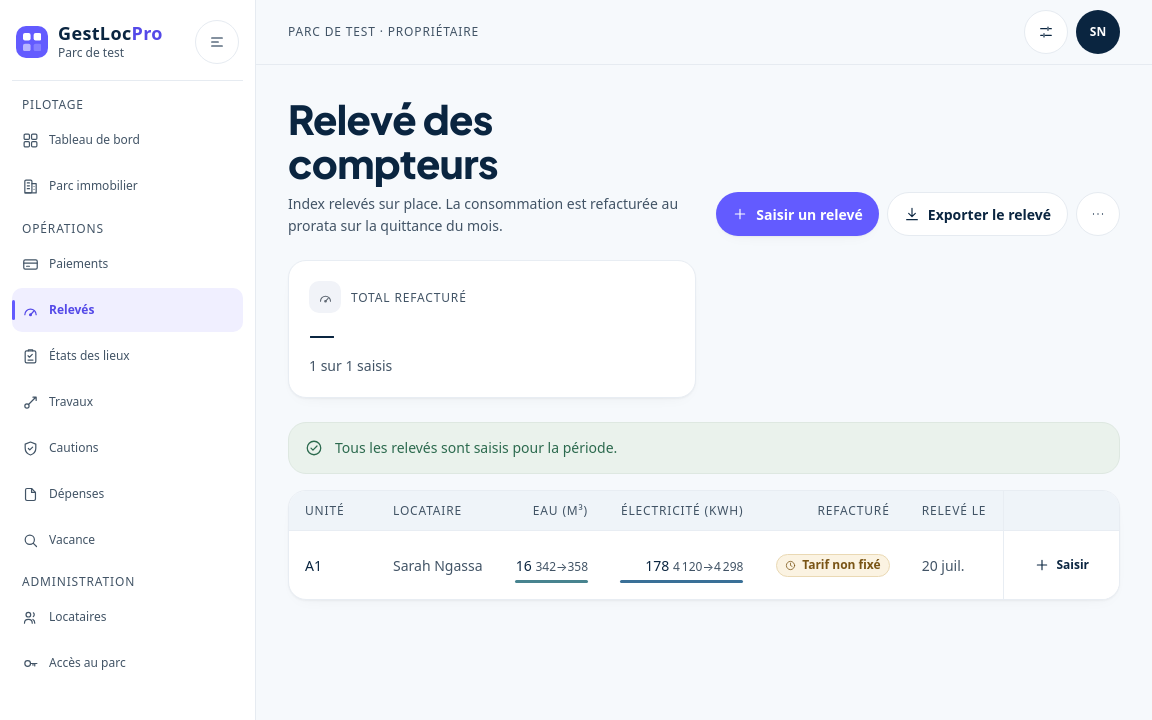
poser un prix › envoie le prix saisi, daté
Click the button named "Autres actions".
click(1098, 214)  # box [1076,192,1120,236]
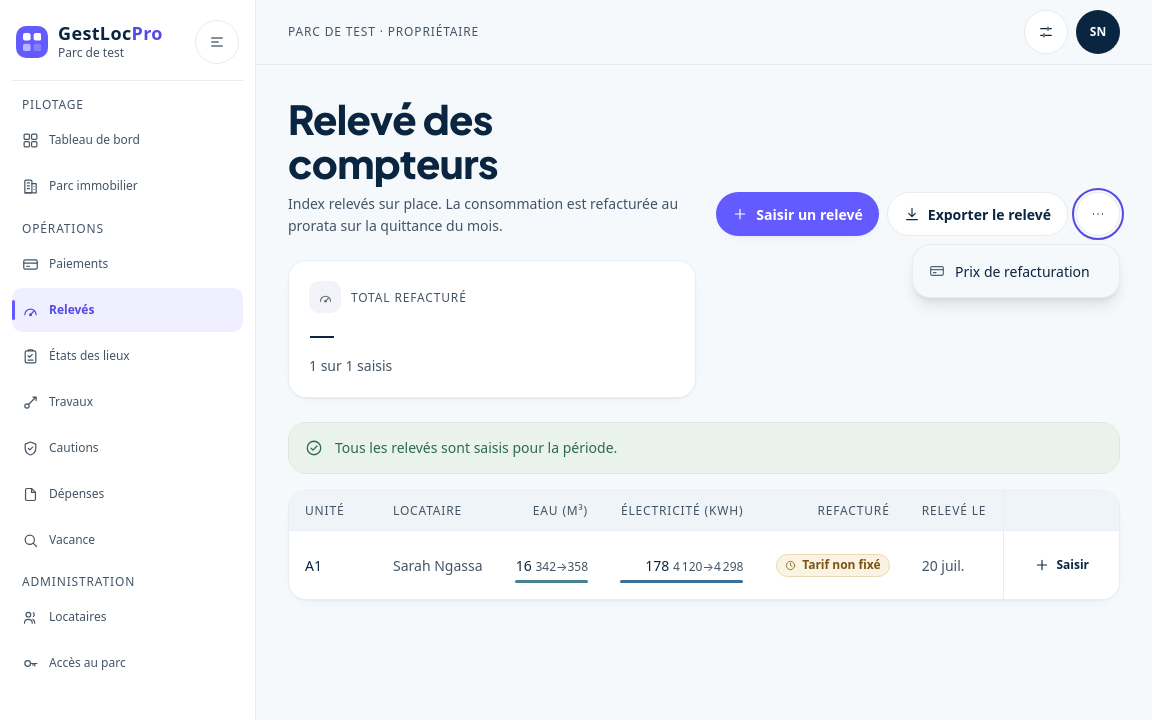
Click the menu item "Prix de refacturation".
click(1016, 271)  # box [917,249,1115,293]
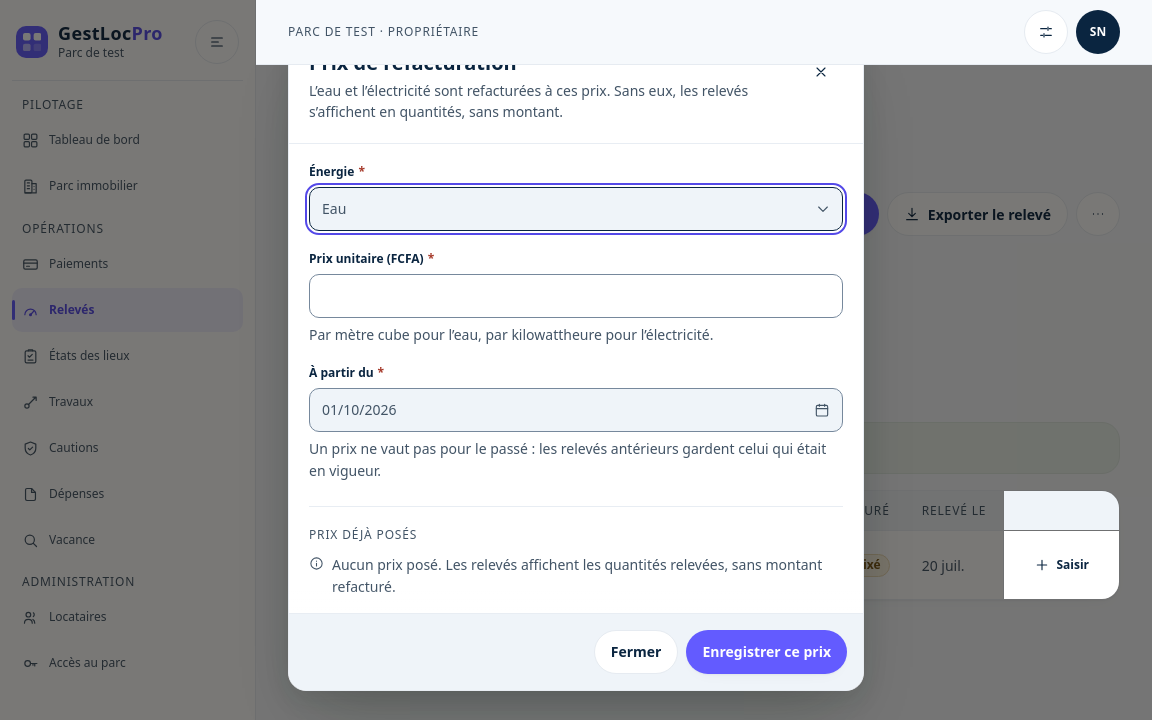
Type "610" into the field labelled "Prix unitaire (FCFA)*".
click(576, 296); type("610")  # box [309,274,843,318]
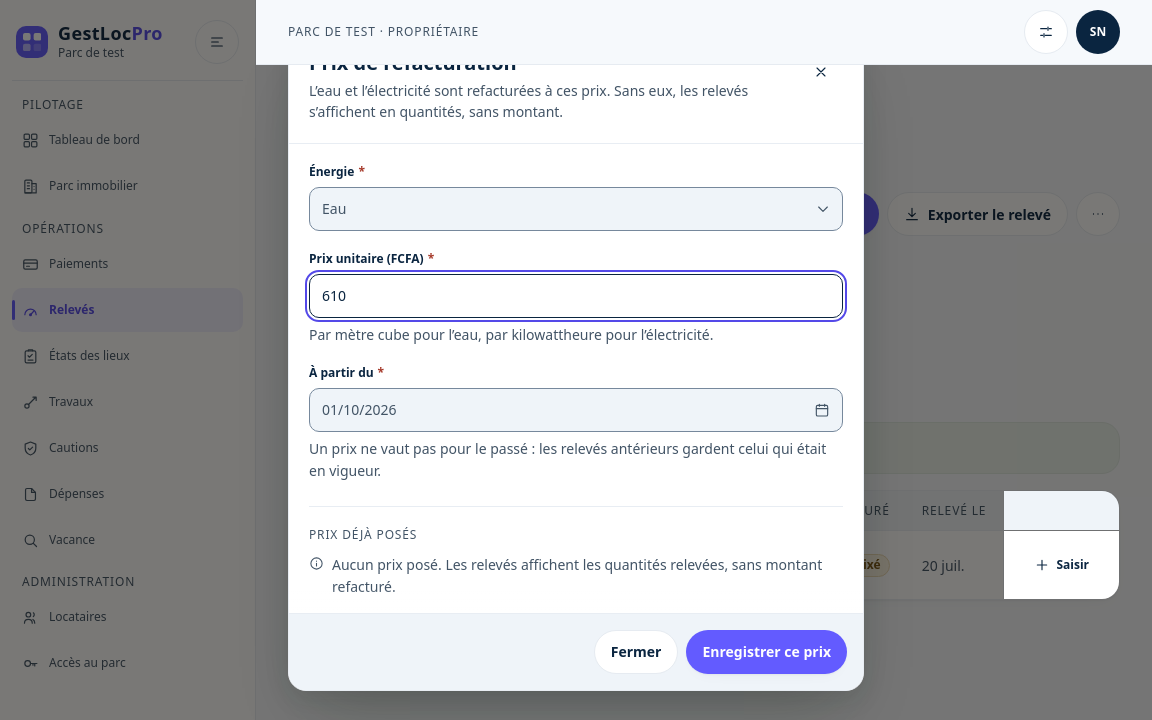
Click the button "Enregistrer ce prix".
click(767, 652)  # box [686,630,847,674]
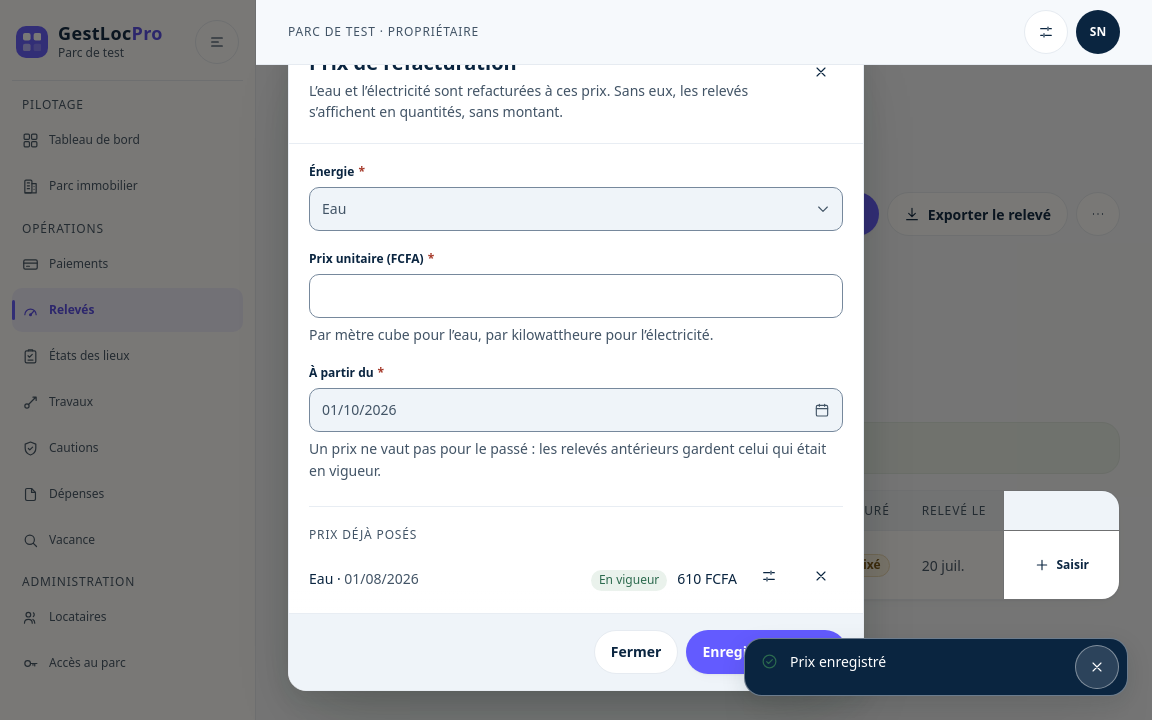
Expected: the text "Prix enregistré" is shown, [790,652,886,671]
